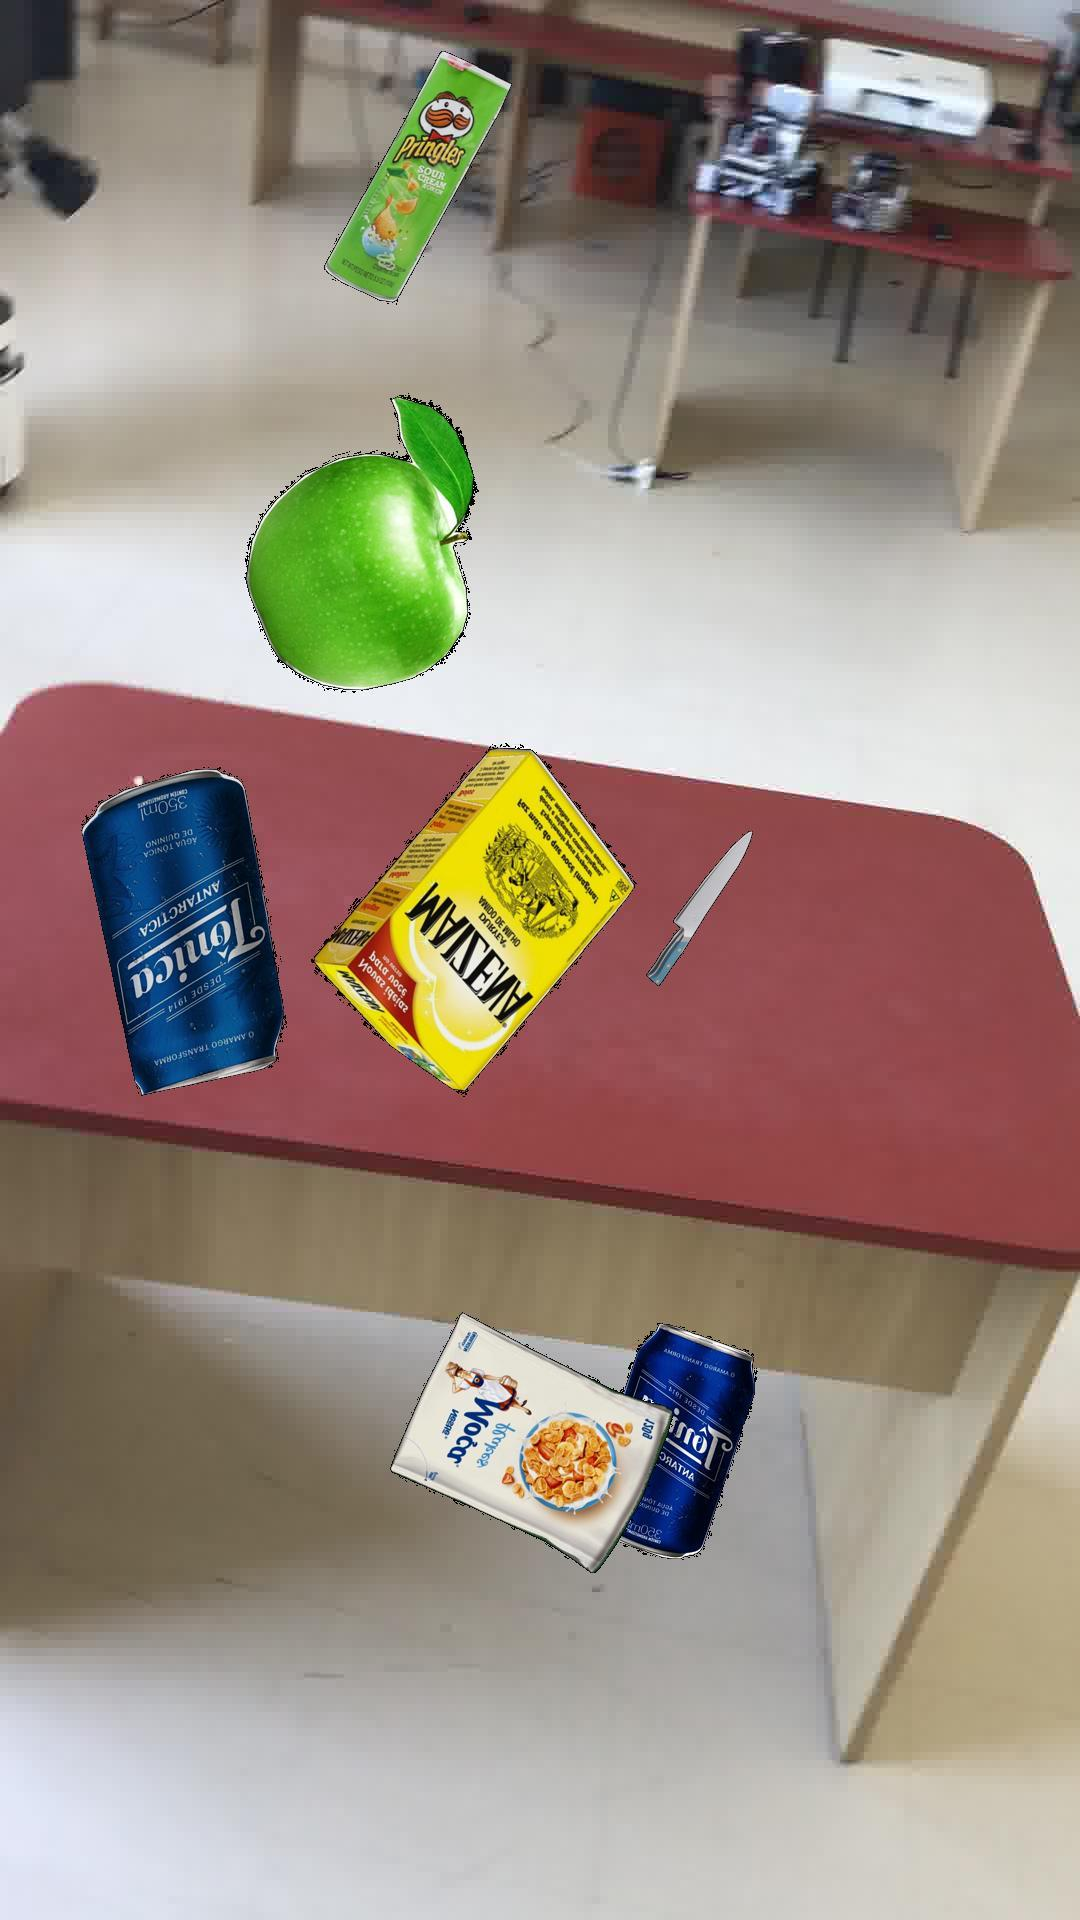corn flakes: (389, 1311, 671, 1572)
green apple: (243, 393, 477, 690)
knife: (645, 829, 752, 985)
pringles: (323, 50, 510, 302)
tonic: (79, 766, 285, 1095), (617, 1321, 756, 1557)
